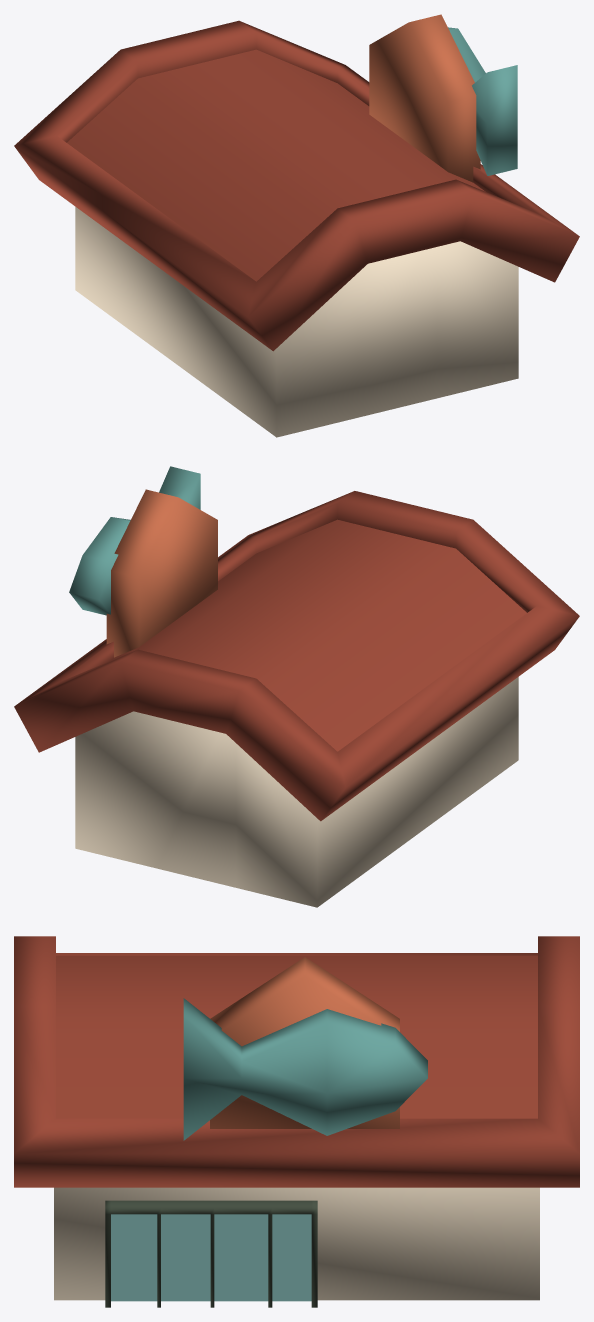
The model's file is Poissonerie.fbx.
3 renders of one model, top to bottom at view 1: azimuth 30°, elevation 25°; view 2: azimuth 150°, elevation 25°; view 3: azimuth 270°, elevation 25°, orthographic. The views are drawn at different scales.
Visible parts, largest first — view 1: Poissonerie; view 2: Poissonerie; view 3: Poissonerie.
Boxes of the visible parts, x1=… form: Poissonerie: x1=14, y1=14, x2=579, y2=437; Poissonerie: x1=14, y1=466, x2=579, y2=907; Poissonerie: x1=14, y1=936, x2=579, y2=1307.
Bounding box in the file's own units: 1978 × 1468 × 2214.
